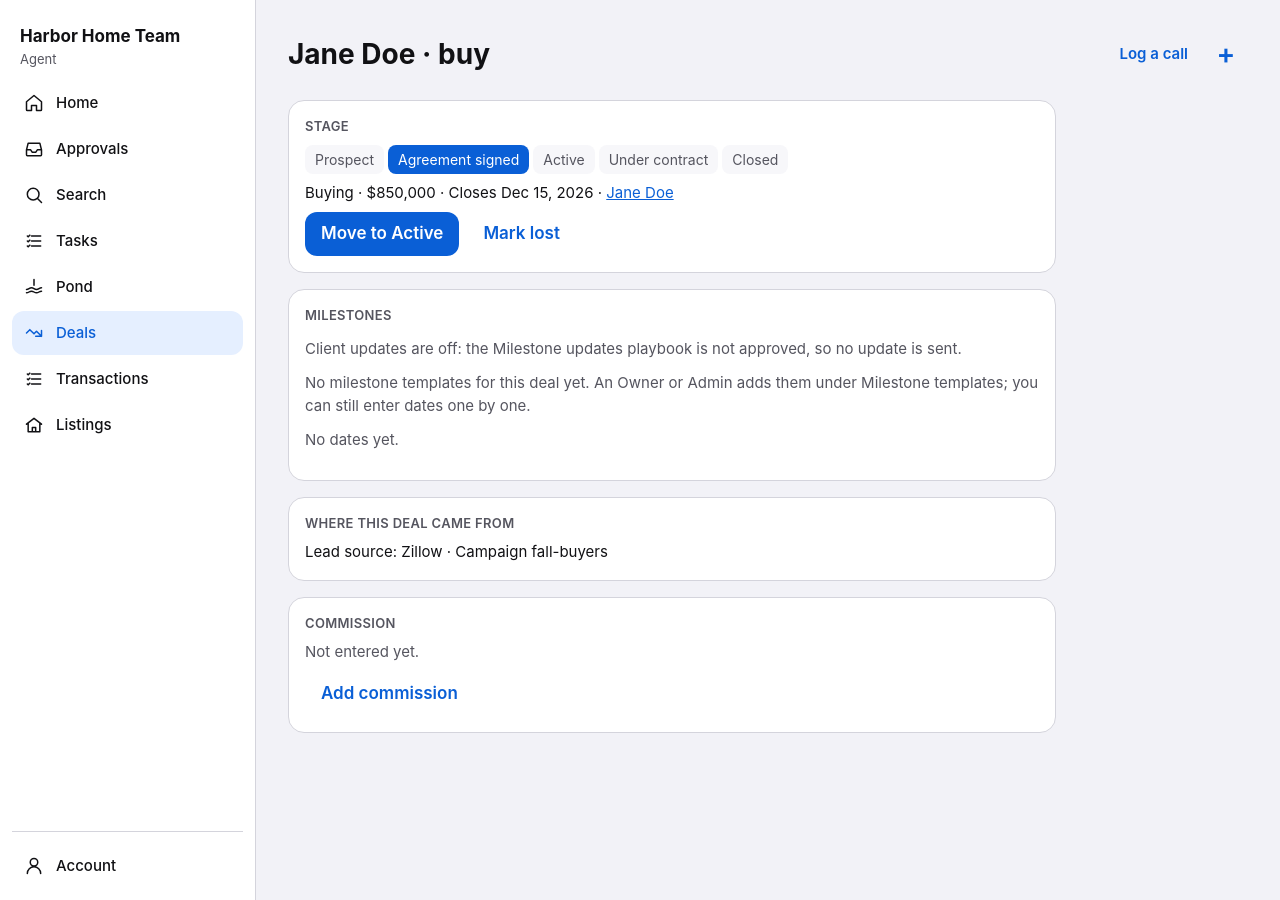
Test case: Deals › a stage move that lost a race says so in words
This screenshot has width=1280, height=900.
Click the button "Move to Active" at {"x": 382, "y": 234}, box [305,212,459,256]
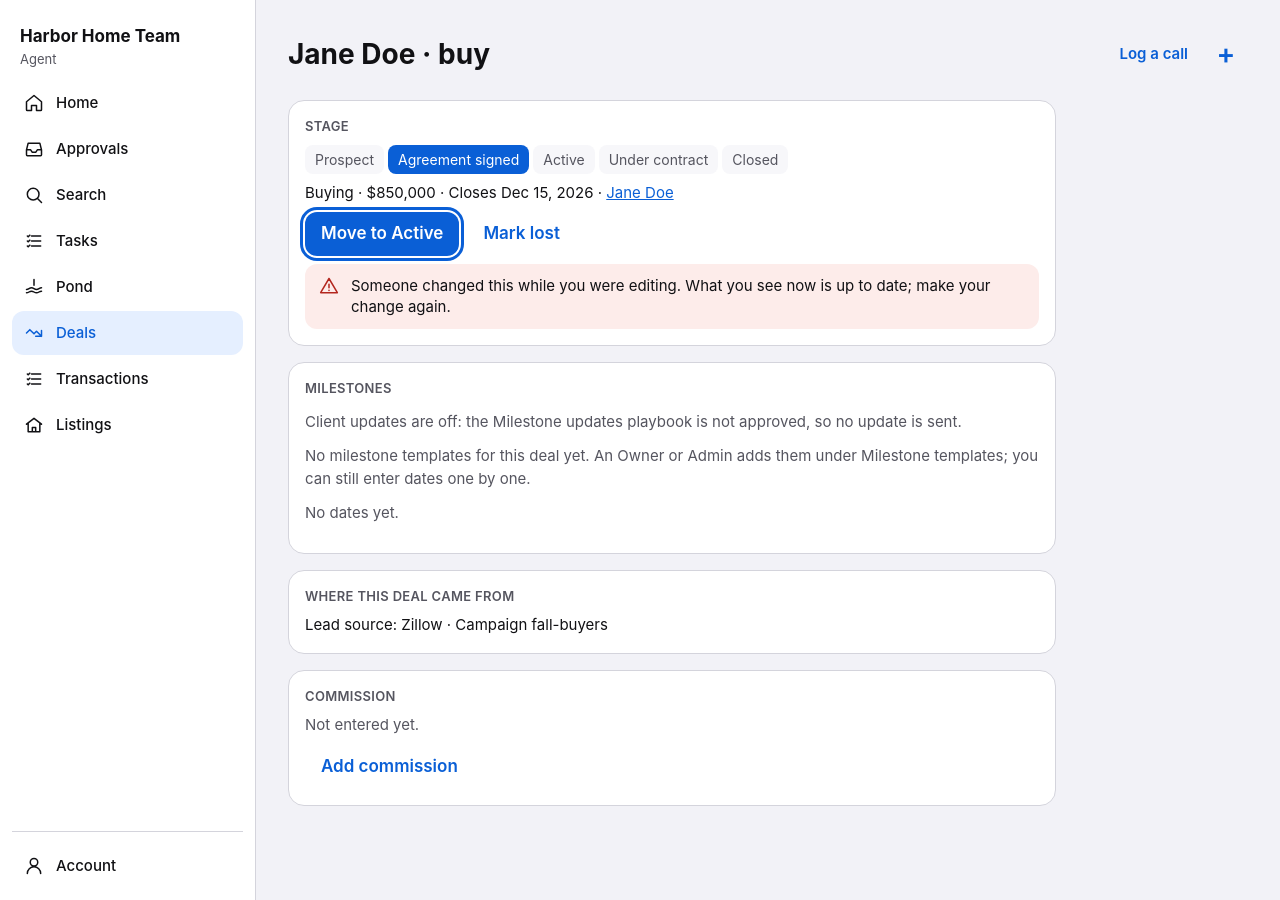
Check: the heading "Commission" is shown, box [305,688,396,704]
Check: the text "Someone changed this while you were editing" is shown, box [351,276,990,316]
